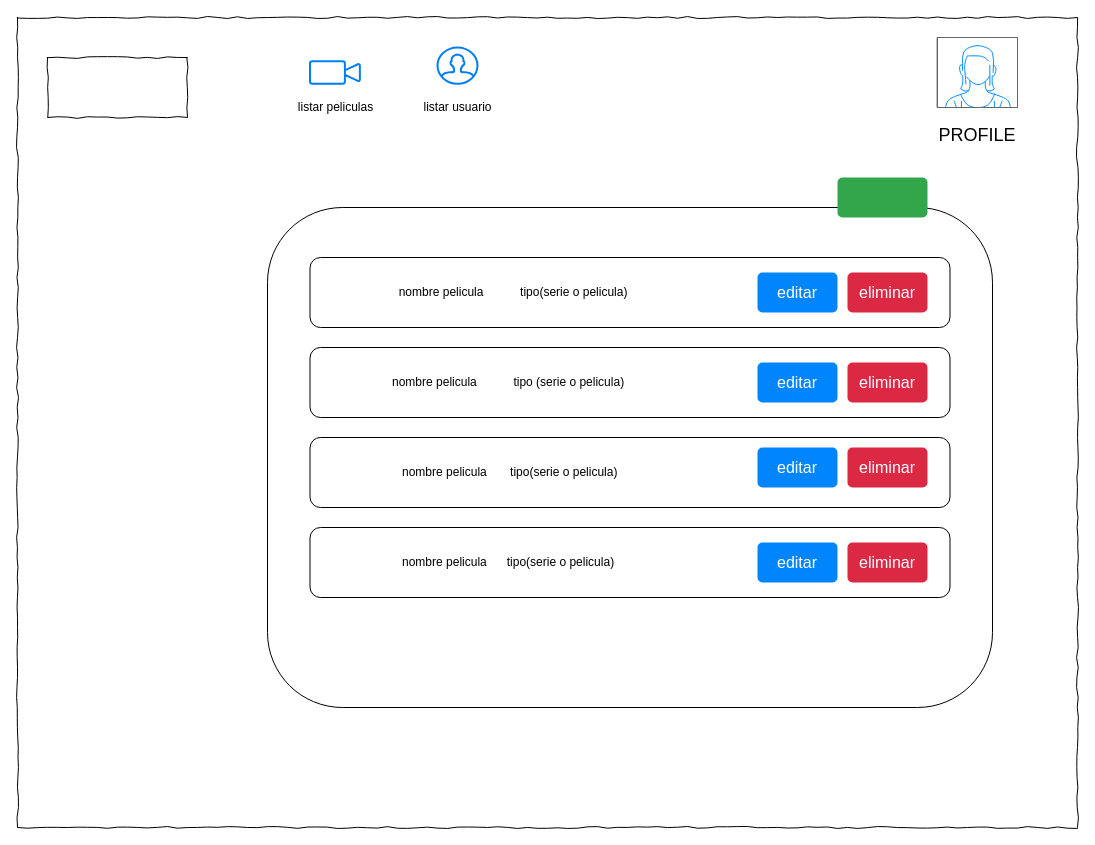
Some shapes in this 1095 by 845 pixel diagram are drawn without their labels. The box of each missing label's shape, as (x1, y1, x2, y2) in pixels:
agregar: (837, 177, 927, 217)
PETFLIX: (46, 56, 188, 118)
